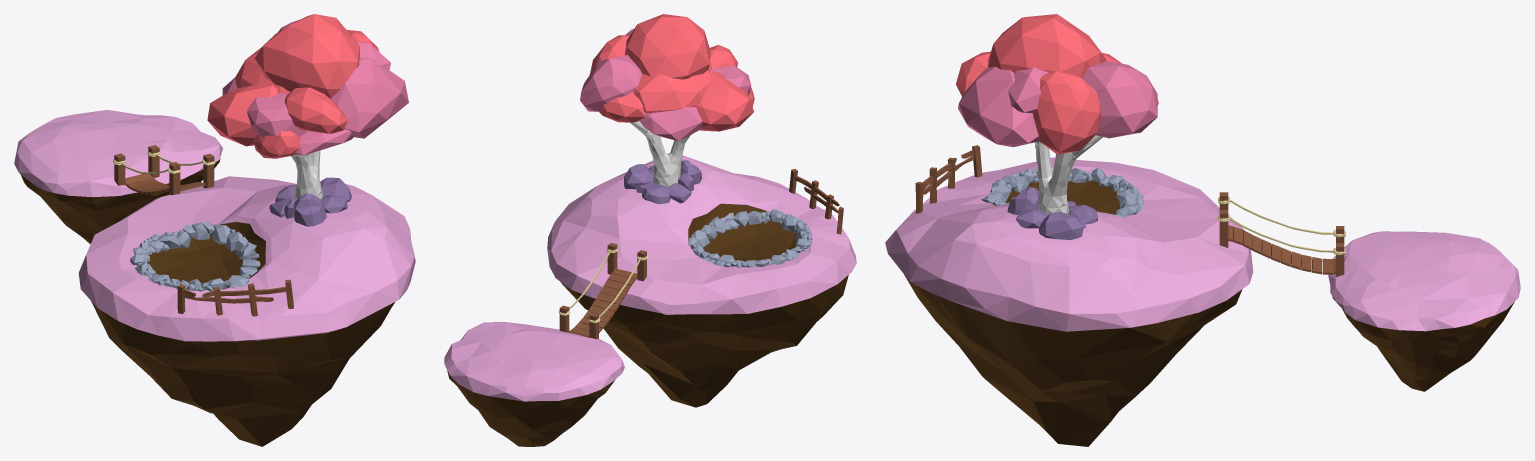
File: MainIslandV3.1.fbx
3 renders of one model, left to right at view 1: azimuth 30°, elevation 25°; view 2: azimuth 150°, elevation 25°; view 3: azimuth 270°, elevation 25°, orthographic. The views are drawn at different scales.
Visible parts, largest first — view 1: MainIsland, CherryTreee, MainIsland2, wheel stone, Bridge, TreeStone, fence; view 2: MainIsland, CherryTreee, MainIsland2, wheel stone, Bridge, TreeStone, fence; view 3: MainIsland, CherryTreee, MainIsland2, Bridge, TreeStone, wheel stone, fence.
Part boxes in pixels (bbox=[...]): MainIsland: bbox=[78, 176, 415, 446]; CherryTreee: bbox=[207, 14, 408, 199]; MainIsland2: bbox=[14, 110, 222, 243]; wheel stone: bbox=[130, 221, 260, 291]; Bridge: bbox=[113, 145, 215, 194]; TreeStone: bbox=[269, 177, 351, 226]; fence: bbox=[177, 279, 293, 316]; MainIsland: bbox=[547, 156, 856, 407]; CherryTreee: bbox=[580, 14, 754, 186]; MainIsland2: bbox=[444, 322, 624, 446]; wheel stone: bbox=[688, 209, 812, 267]; Bridge: bbox=[559, 243, 647, 338]; TreeStone: bbox=[624, 160, 701, 203]; fence: bbox=[789, 169, 843, 234]; MainIsland: bbox=[885, 157, 1253, 446]; CherryTreee: bbox=[956, 14, 1158, 214]; MainIsland2: bbox=[1328, 231, 1520, 391]; Bridge: bbox=[1218, 192, 1345, 276]; TreeStone: bbox=[1007, 187, 1097, 240]; wheel stone: bbox=[981, 168, 1144, 217]; fence: bbox=[915, 145, 982, 213].
Bounding box in the file's own units: 262 × 346 × 444.
